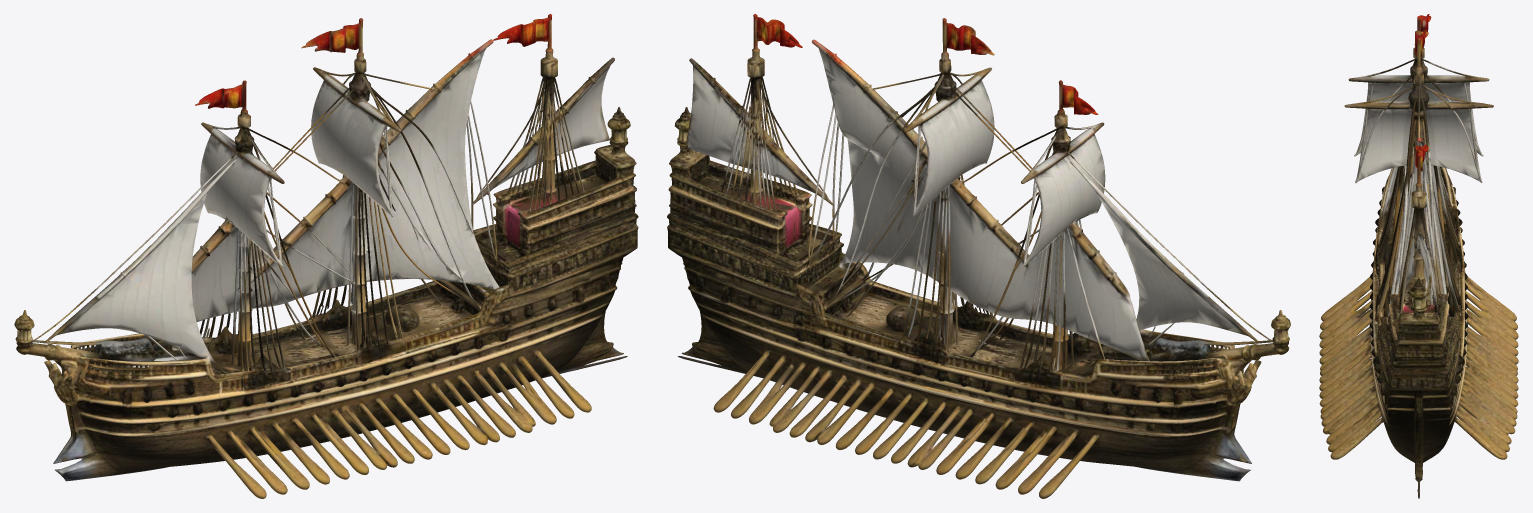
File: galeazza.glb
The picture shows the model from 3 angles, left to right: view 1: azimuth 30°, elevation 25°; view 2: azimuth 150°, elevation 25°; view 3: azimuth 270°, elevation 25°; orthographic projection. The views are drawn at different scales.
Visible parts, largest first — view 1: node_0; view 2: node_0; view 3: node_0.
Part boxes in pixels (box(x1,y1,x2,y2)): node_0: box(14, 14, 638, 498); node_0: box(667, 14, 1290, 498); node_0: box(1319, 14, 1518, 498).
Size of the model in its own units: 1.02 by 0.642 by 0.3321.
Materials: 1 (1 with a texture image).
